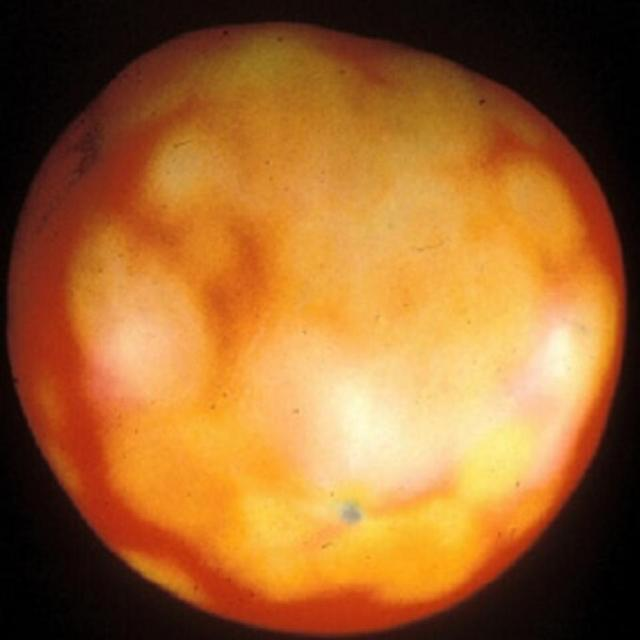Spotted wilt Virus Fruit: (55, 6, 91, 100)
